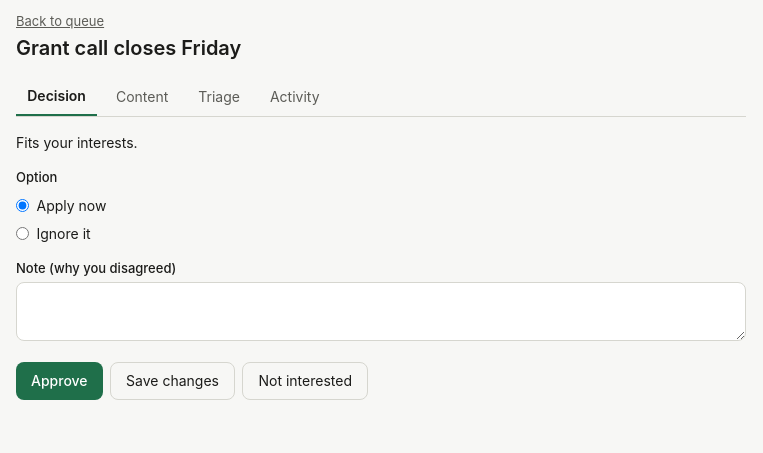
Test: ItemDetailView › posts the approve verdict with the selected option
Expected: the heading "Grant call closes Friday" is shown, [16,36,241,60]
Click the button "Approve": (59, 381) [16,362,103,400]
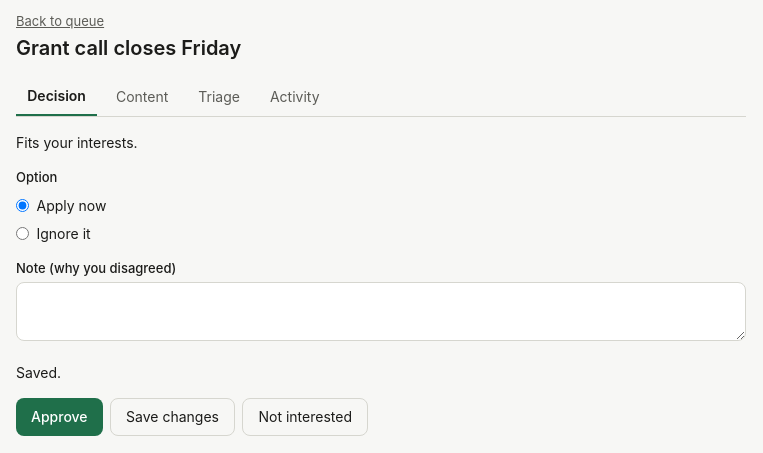
Now the message "Saved." is shown, box [16,364,61,381]
